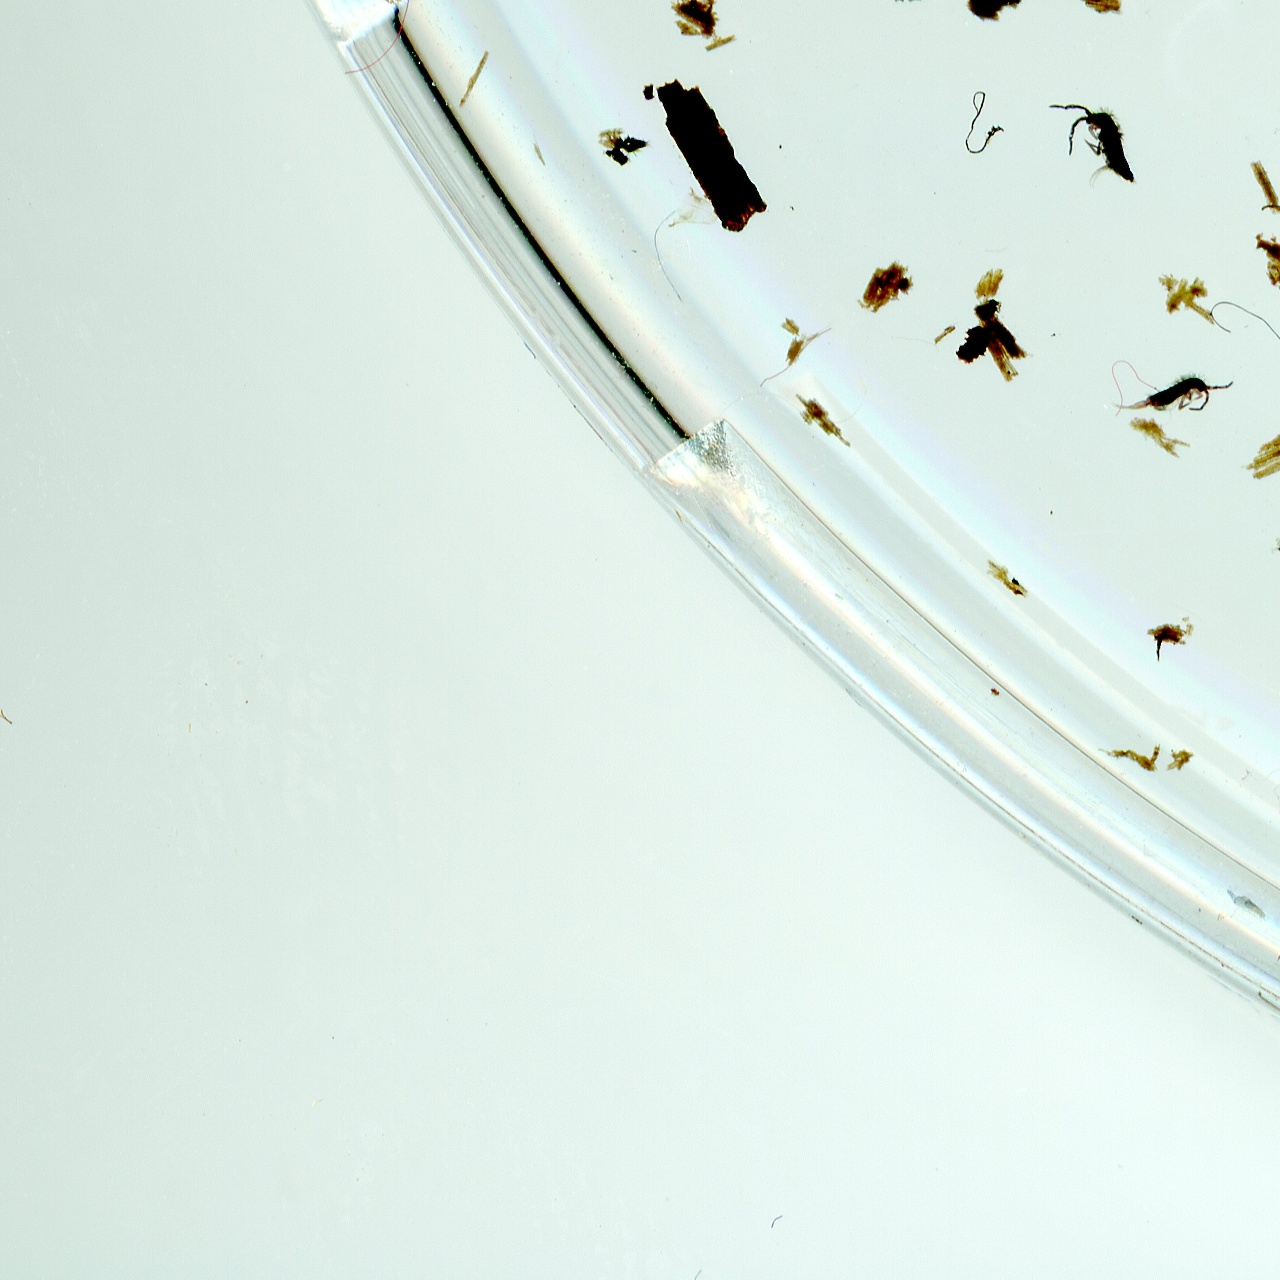arthropod: (1042, 98, 1144, 193), (1107, 366, 1237, 420)
